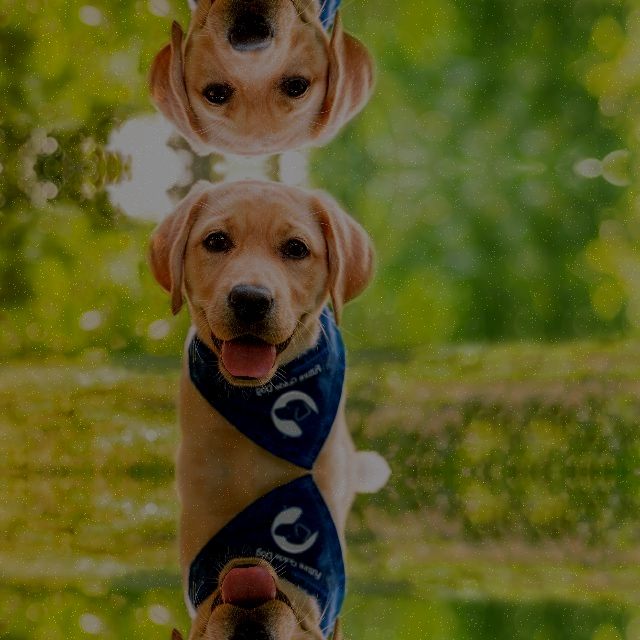dog: (144, 170, 375, 394), (144, 0, 375, 164), (144, 549, 375, 640)
